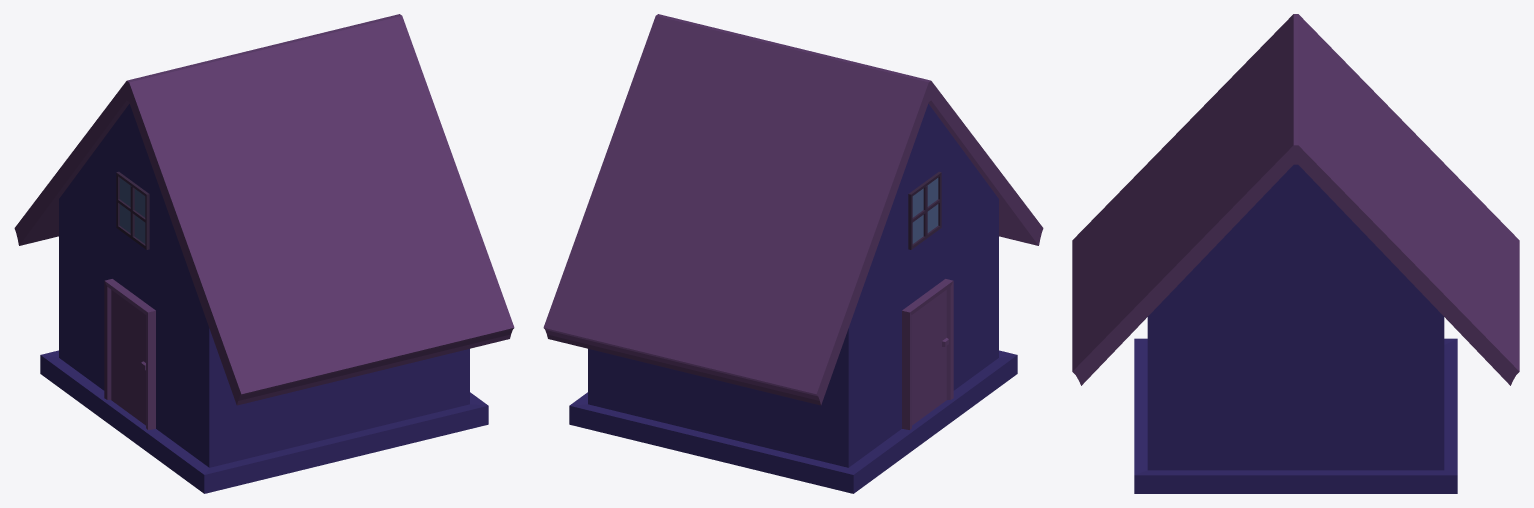
Rendered from cabin.fbx.
3 renders of one model, left to right at view 1: azimuth 30°, elevation 25°; view 2: azimuth 150°, elevation 25°; view 3: azimuth 270°, elevation 25°, orthographic.
Parts seen in each view (by area): view 1: Cube.001; view 2: Cube.001; view 3: Cube.001.
Boxes of the visible parts, x1,y1,x2,y2 form: Cube.001: [14, 14, 514, 493]; Cube.001: [543, 14, 1043, 493]; Cube.001: [1072, 14, 1519, 493].
Bounding box in the file's own units: 396 × 467 × 548.
